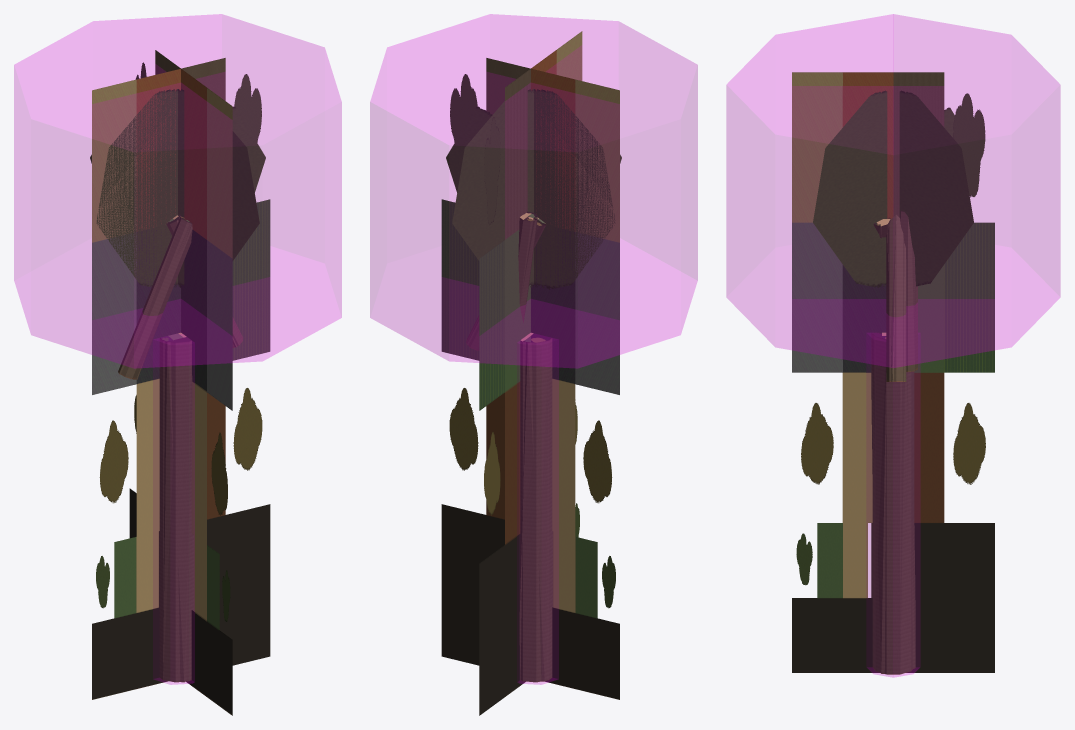
The model's file is mesquite_med.dae.
3 views of the same model, side by side, from view 1: azimuth 30°, elevation 25°; view 2: azimuth 150°, elevation 25°; view 3: azimuth 270°, elevation 25° (orthographic).
Parts seen in each view (by area): view 1: Colmesh_canopy-1, mesquite_med_a50, mesquite_med_a800, mesquite_med_a200, Colmesh_trunk-1; view 2: Colmesh_canopy-1, mesquite_med_a50, mesquite_med_a800, mesquite_med_a200, Colmesh_trunk-1; view 3: Colmesh_canopy-1, mesquite_med_a50, mesquite_med_a800, Colmesh_trunk-1, mesquite_med_a200.
Part boxes in pixels (x1,y1,x2,y2): Colmesh_canopy-1: (14,14,341,368); mesquite_med_a50: (92,50,270,715); mesquite_med_a800: (90,89,265,682); mesquite_med_a200: (90,91,265,682); Colmesh_trunk-1: (153,366,194,684); Colmesh_canopy-1: (370,14,697,368); mesquite_med_a50: (441,31,619,715); mesquite_med_a800: (446,89,621,682); mesquite_med_a200: (446,90,621,681); Colmesh_trunk-1: (517,366,558,684); Colmesh_canopy-1: (726,14,1060,367); mesquite_med_a50: (792,72,994,672); mesquite_med_a800: (813,90,973,674); Colmesh_trunk-1: (867,364,919,677); mesquite_med_a200: (813,92,973,673).
Size of the model in its own units: 2.24 by 2.24 by 4.44.
Materials: 3 (2 with a texture image).
